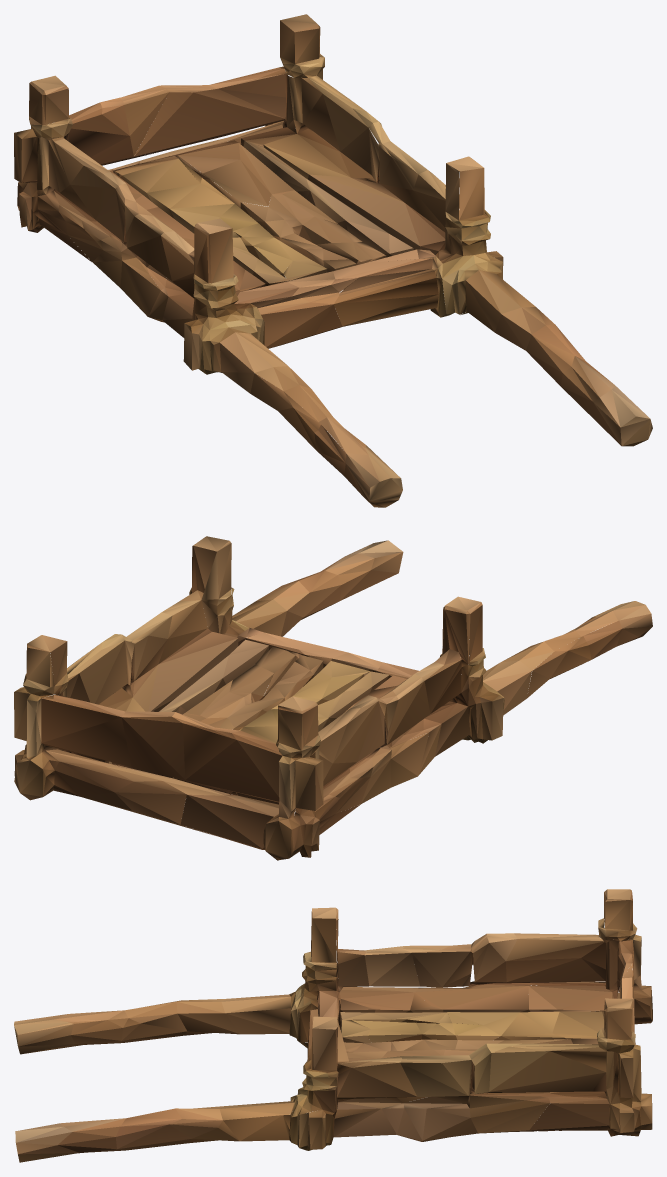
File: building-cart-body.glb
3 renders of one model, top to bottom at view 1: azimuth 30°, elevation 25°; view 2: azimuth 150°, elevation 25°; view 3: azimuth 270°, elevation 25°, orthographic. The views are drawn at different scales.
Visible parts, largest first — view 1: 0_cart-body; view 2: 0_cart-body; view 3: 0_cart-body.
Boxes of the visible parts, x1,y1,x2,y2 form: 0_cart-body: (14,14,652,507); 0_cart-body: (14,536,652,860); 0_cart-body: (14,889,652,1162).
Size of the model in its own units: 0.754 by 0.4122 by 1.5.
